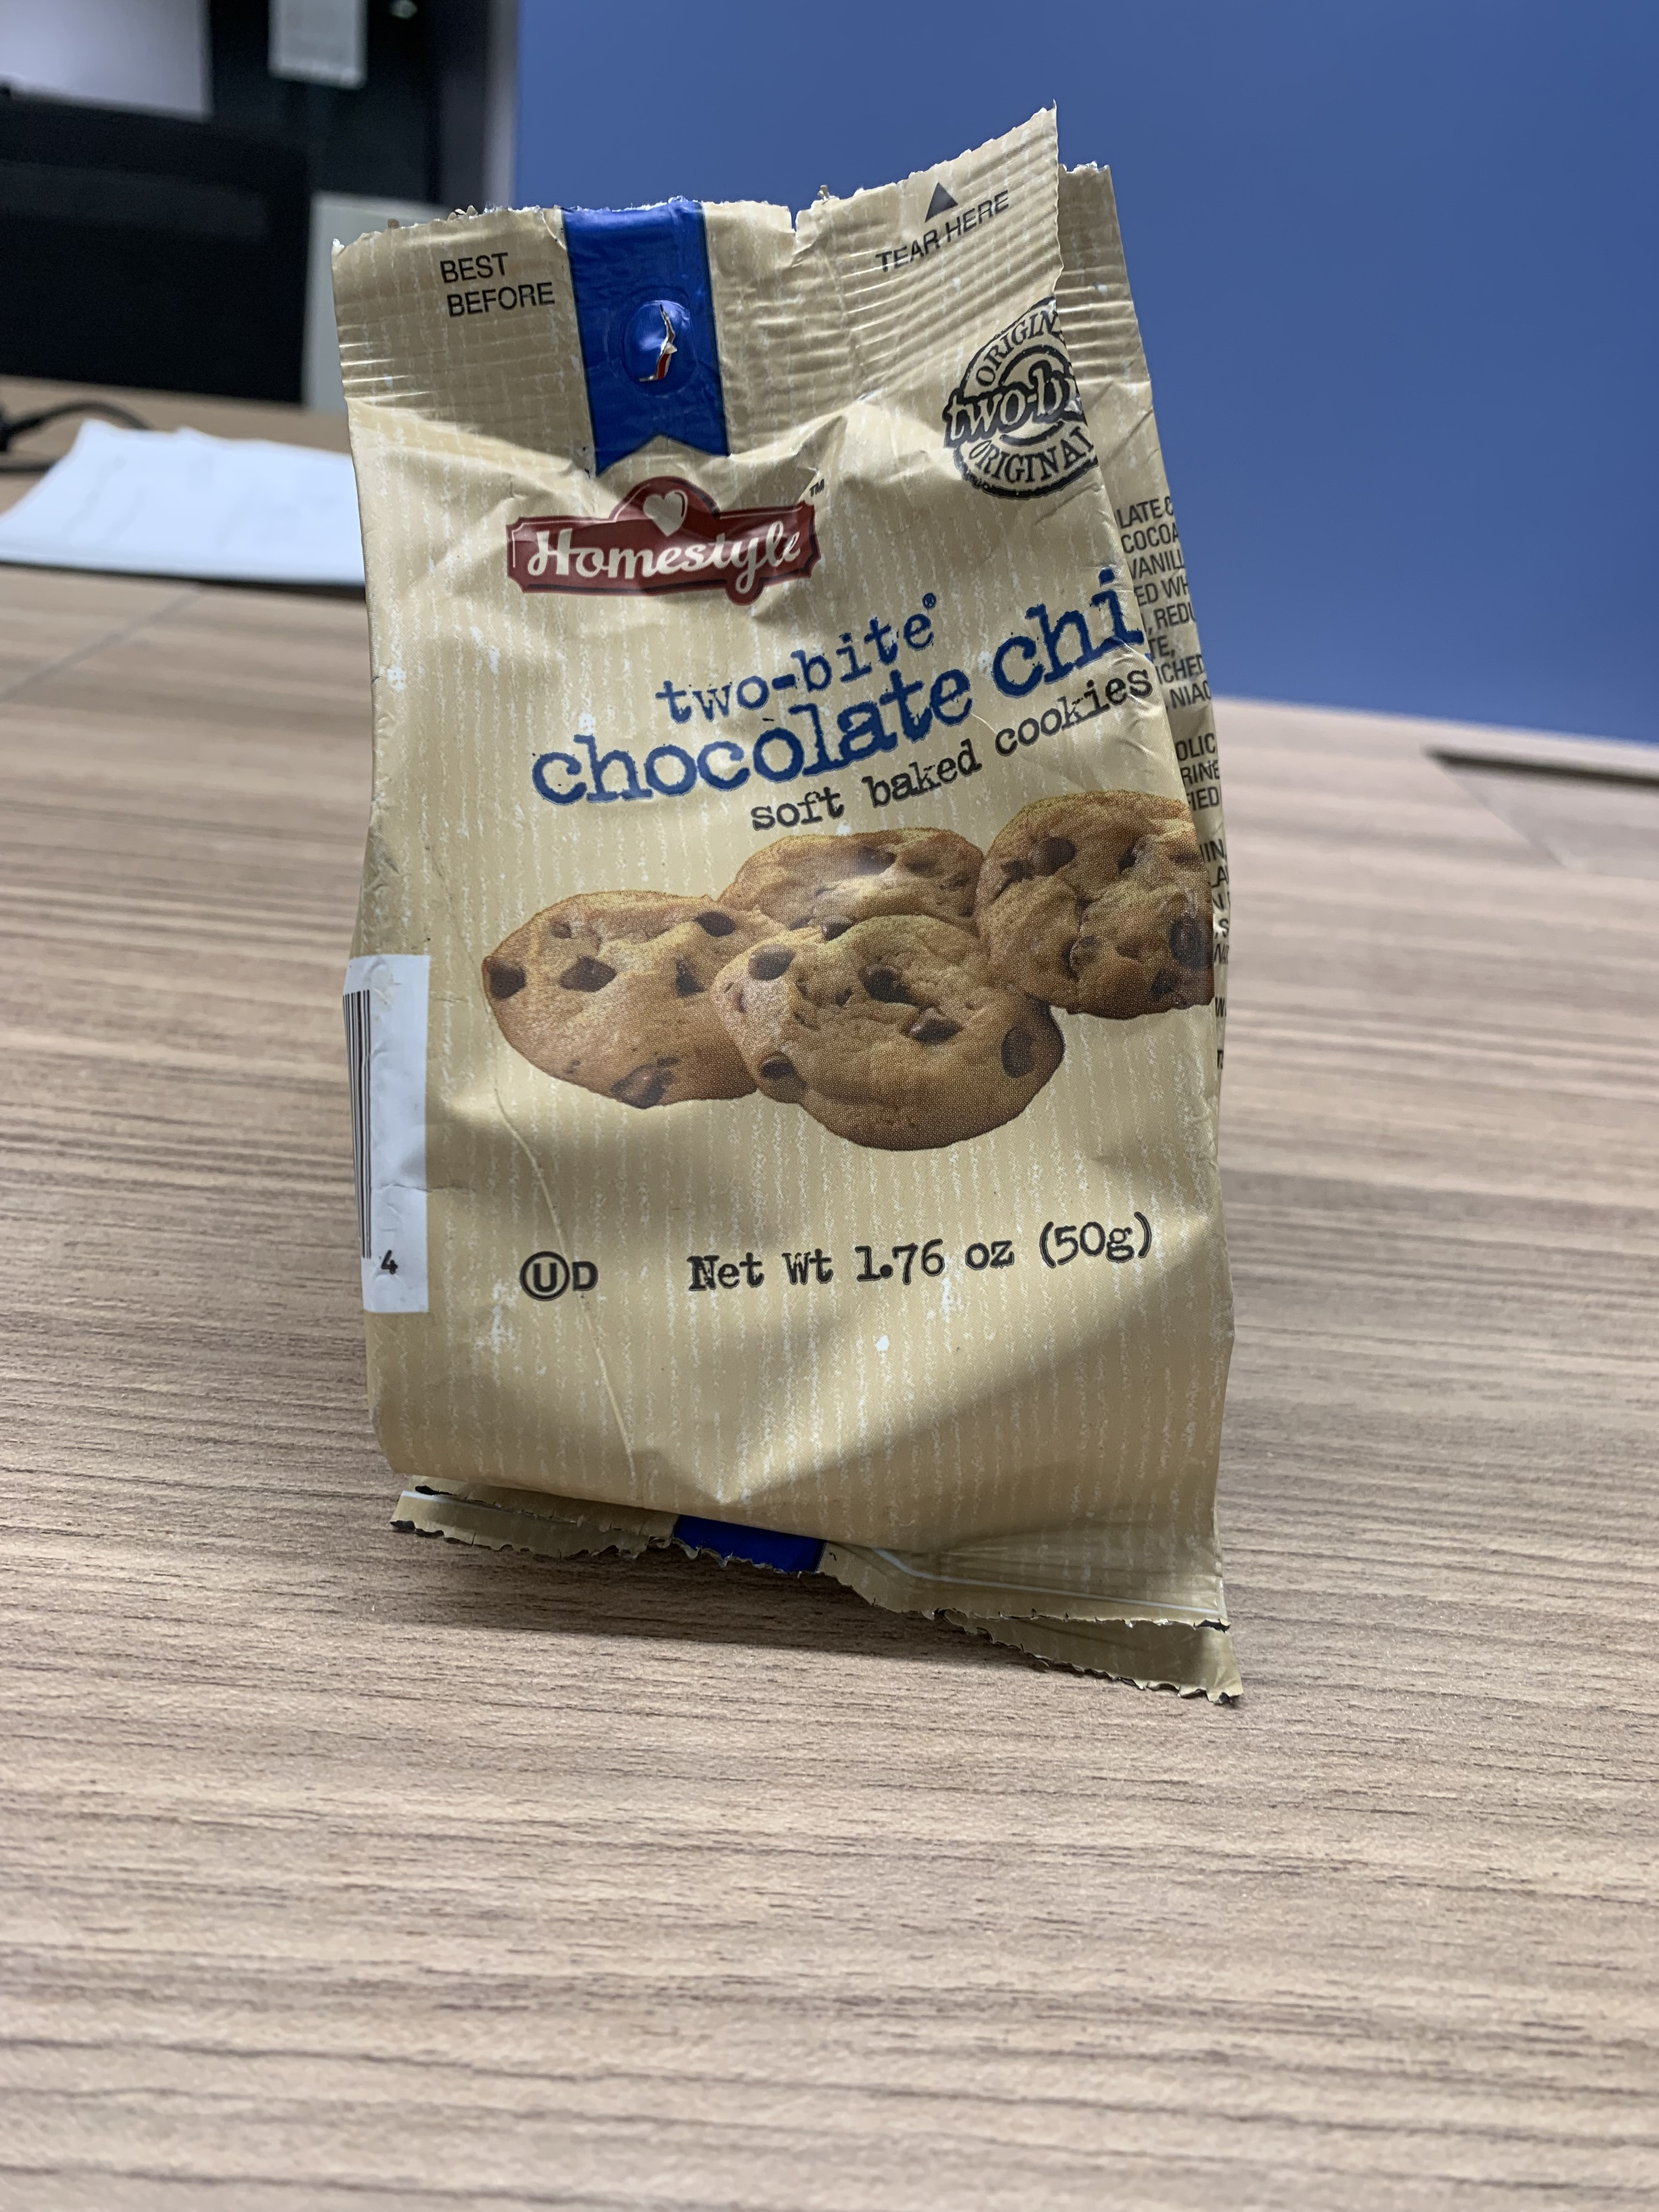cookies_1g-99g: (382, 239, 1218, 1608)
